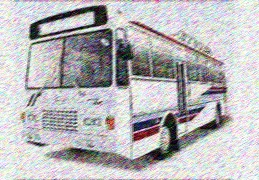bus: (19, 4, 224, 162)
